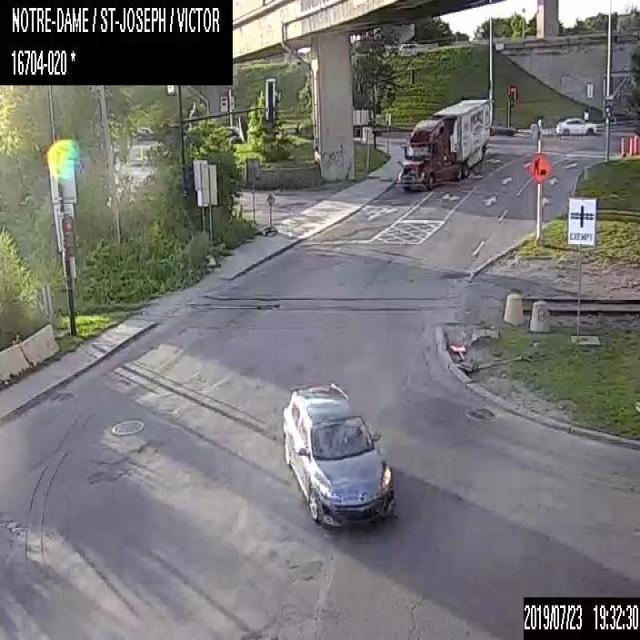construction: (528, 154, 551, 181), (628, 137, 632, 155), (633, 135, 637, 153), (621, 137, 625, 154)
vehicle: (282, 382, 392, 530), (396, 98, 489, 190), (555, 116, 596, 134)
